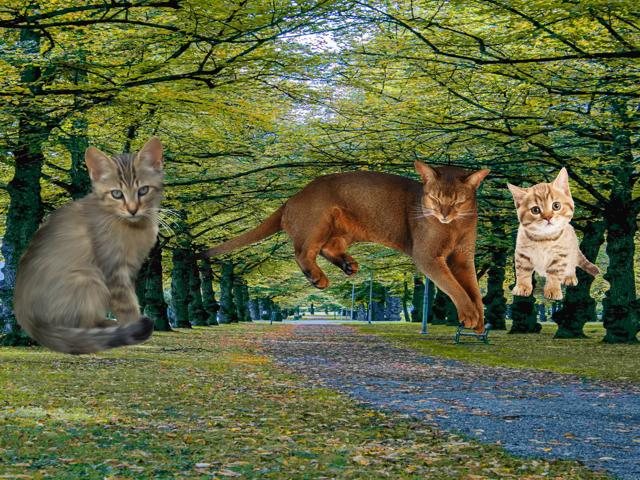cat: (186, 163, 489, 333), (9, 136, 179, 357), (496, 168, 612, 299)
